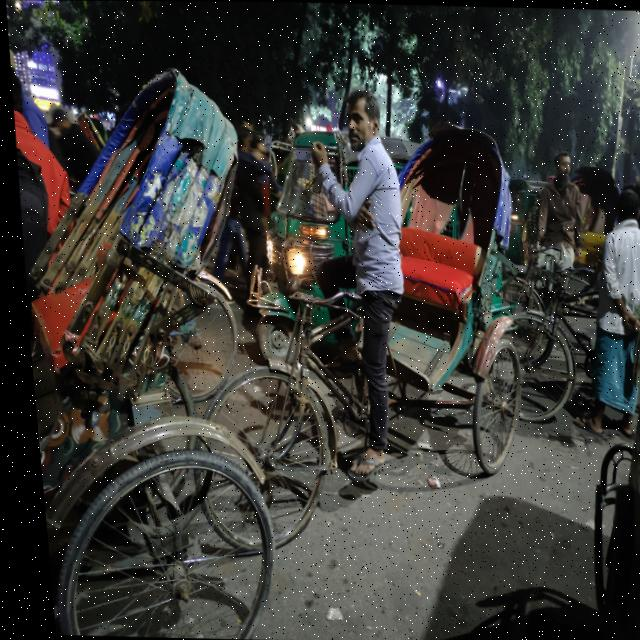rikshaw: (7, 94, 304, 640), (190, 107, 548, 543)
